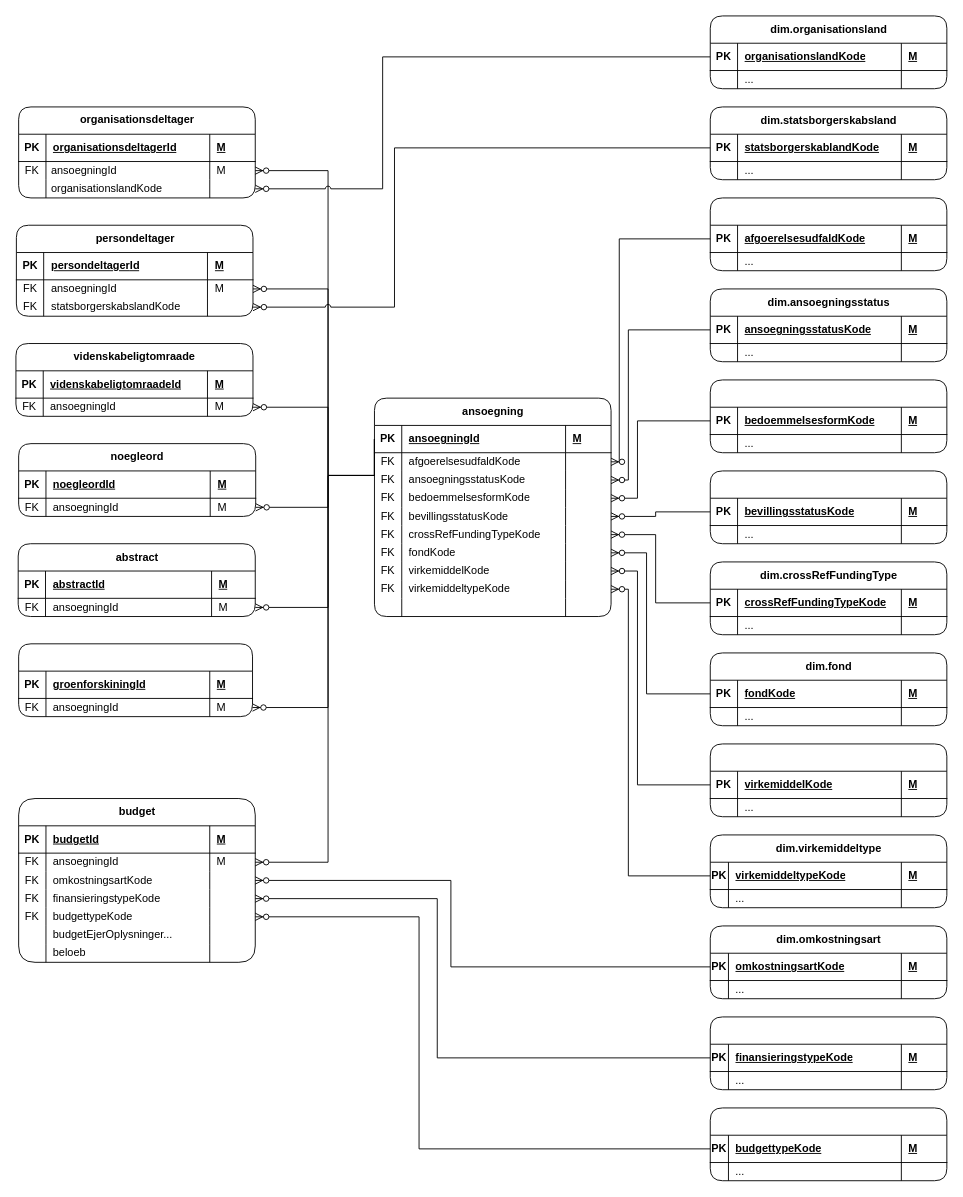
The diagram is 963 pixels wide and 1197 high, and some of its shapes have lost their labels. The box of each missing label's shape, as (x1, y1, x2, y2) in pixels:
dim. bedoemmelsesform: (709, 379, 947, 453)
dim. bevillingsstatus: (709, 470, 947, 544)
dim. budgettype: (709, 1107, 947, 1181)
dim. finansieringstype: (709, 1016, 947, 1090)
dim. virkemiddel: (709, 743, 947, 817)
dim.afgoerelsesudfald: (709, 197, 947, 271)
groenforskning: (18, 643, 253, 717)
